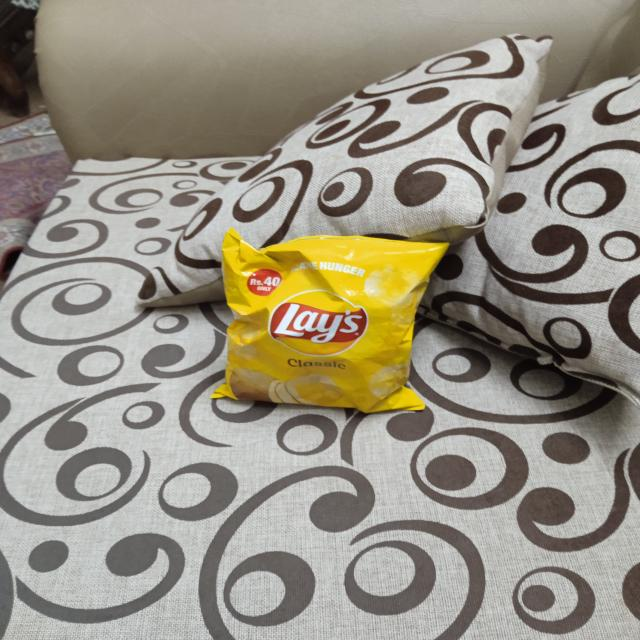Plastic: (214, 225, 451, 418)
